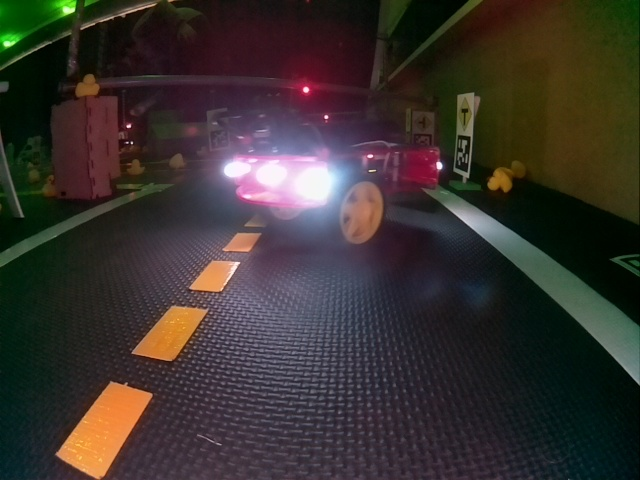Duckie: (75, 75, 98, 96), (487, 171, 511, 191), (510, 159, 526, 176), (127, 159, 144, 174), (169, 156, 185, 169), (44, 177, 57, 193), (197, 144, 207, 155)
Duckiebot: (231, 139, 441, 244)
Intersection sign: (457, 97, 470, 131), (413, 113, 433, 132)
QR code: (455, 136, 470, 174), (415, 133, 432, 149)
Traffic light: (301, 83, 310, 94), (322, 113, 331, 121)
